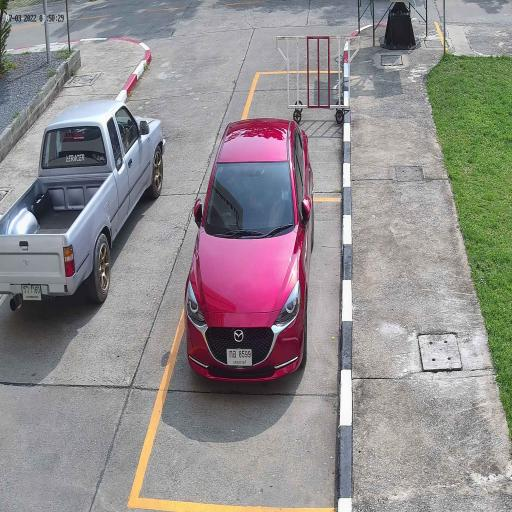car: (182, 116, 314, 385), (0, 99, 168, 306)
